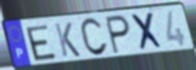4: (165, 9, 188, 48)
C: (79, 17, 110, 59)
E: (24, 23, 59, 62)
K: (53, 21, 82, 59)
P: (104, 14, 132, 56)
X: (129, 11, 166, 53)
